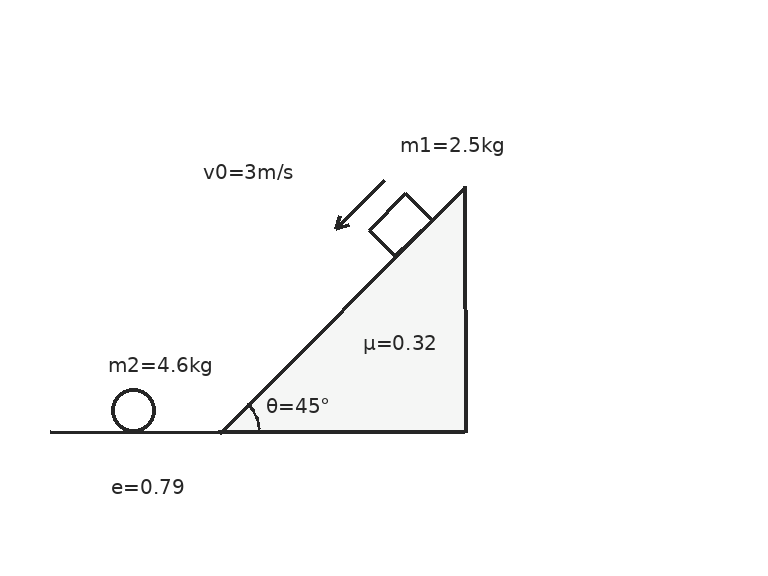ball: (109, 386, 157, 434)
block: (367, 191, 433, 258)
ramp: (217, 185, 466, 434)
